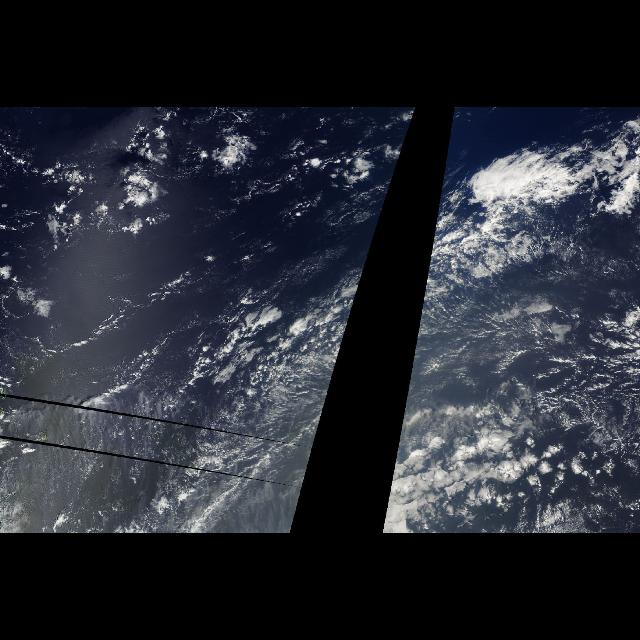Fish: (178, 118, 414, 376), (410, 118, 626, 376)
Sugar: (430, 296, 640, 396)
